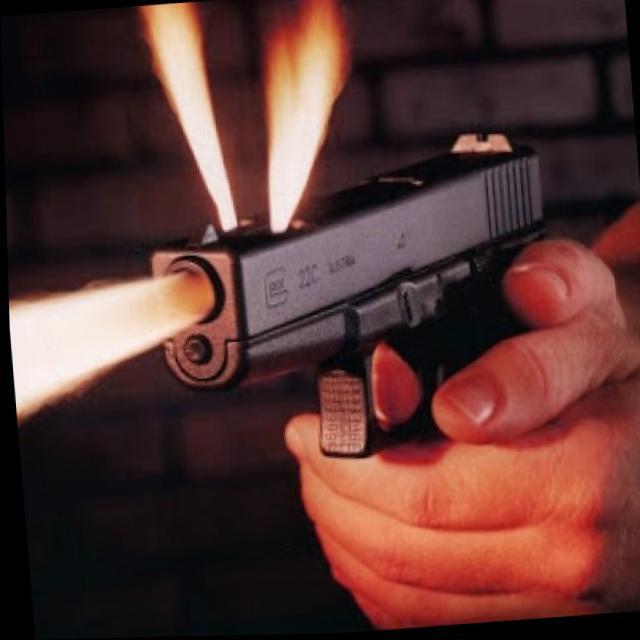weapon: (137, 121, 592, 478)
